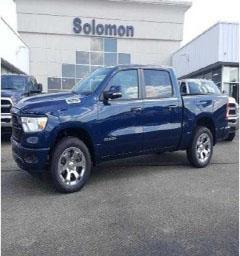car: (6, 44, 232, 192)
